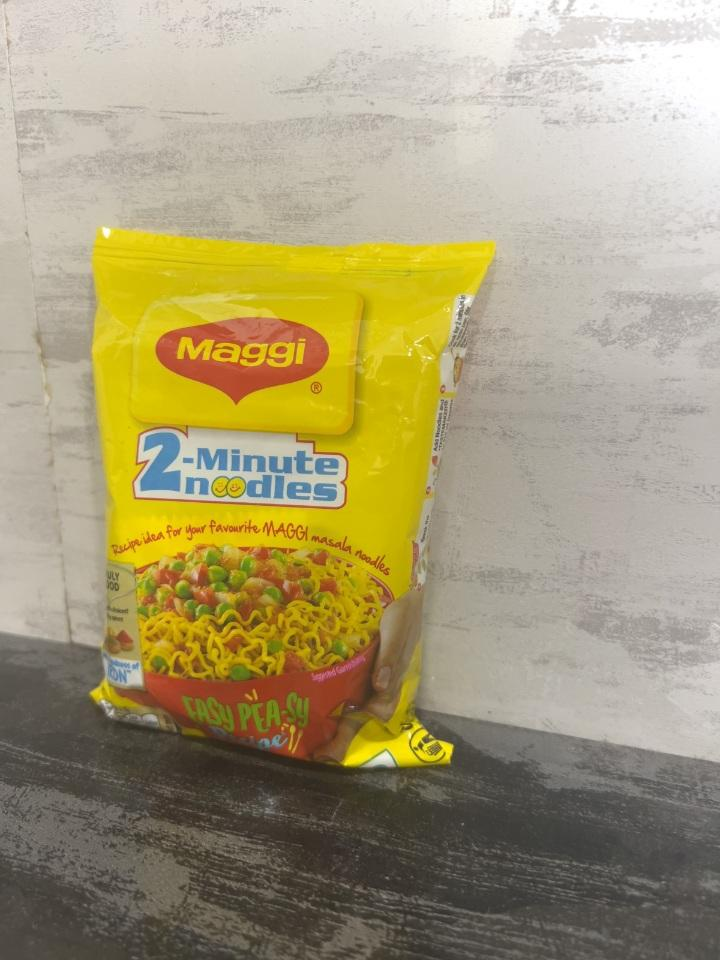Maggi: (87, 225, 499, 790)
